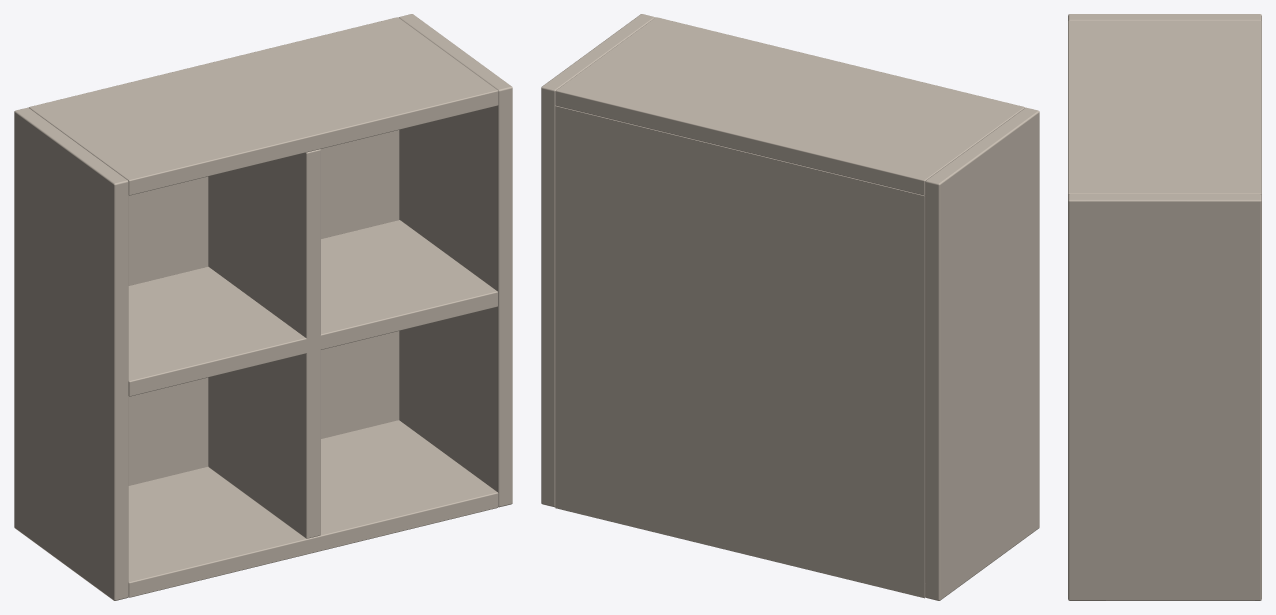
The model's file is shelf_cube.glb.
The picture shows the model from 3 angles, left to right: view 1: azimuth 30°, elevation 25°; view 2: azimuth 150°, elevation 25°; view 3: azimuth 270°, elevation 25°; orthographic projection. The views are drawn at different scales.
Parts seen in each view (by area): view 1: shelf_cube; view 2: shelf_cube; view 3: shelf_cube.
Boxes of the visible parts, left/top/right/bottom form: shelf_cube: left=14, top=14, right=512, bottom=600; shelf_cube: left=541, top=14, right=1039, bottom=600; shelf_cube: left=1068, top=14, right=1261, bottom=600.
Size of the model in its own units: 0.8 by 0.8 by 0.35.
